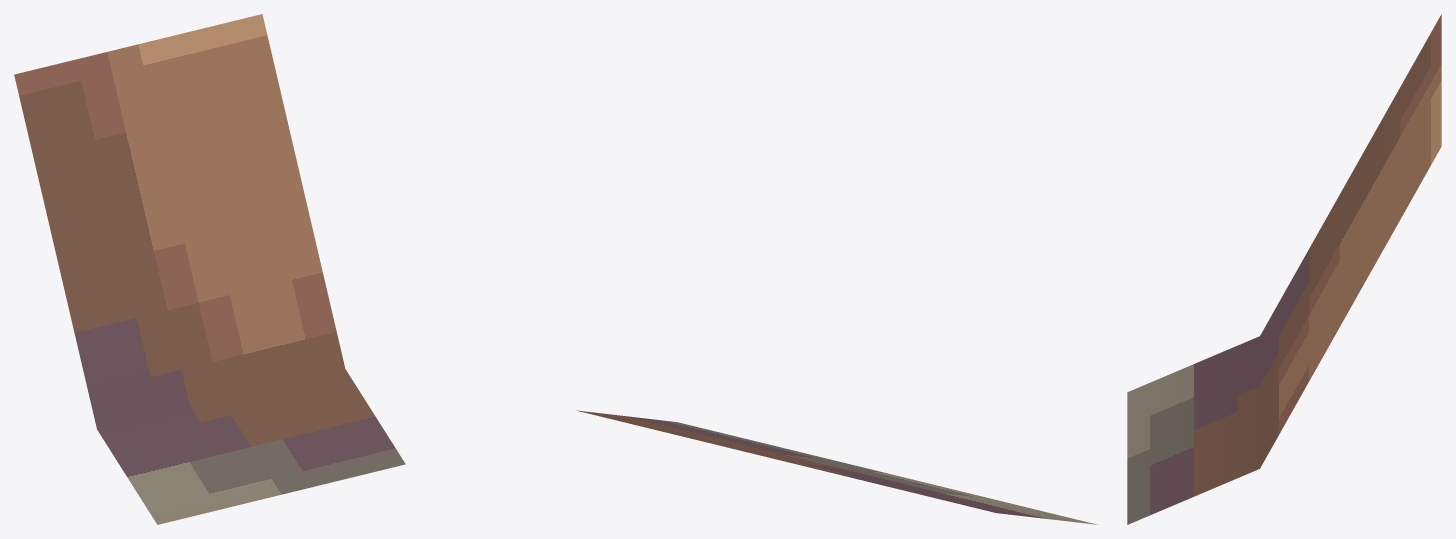
The picture shows the model from 3 angles, left to right: view 1: azimuth 30°, elevation 25°; view 2: azimuth 150°, elevation 25°; view 3: azimuth 270°, elevation 25°; orthographic projection. The views are drawn at different scales.
Bounding box in the file's own units: 0.5 × 0.6645 × 0.5.
1 material, 1 textured.
